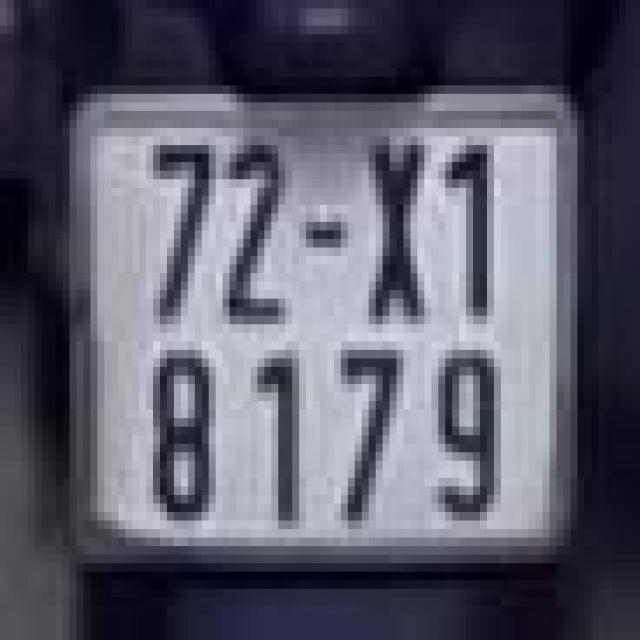1: (247, 332, 316, 538), (445, 136, 501, 333)
2: (226, 141, 296, 328)
7: (327, 346, 410, 550), (146, 132, 216, 320)
8: (136, 324, 233, 546)
9: (431, 341, 508, 538)
X: (358, 128, 428, 333)
